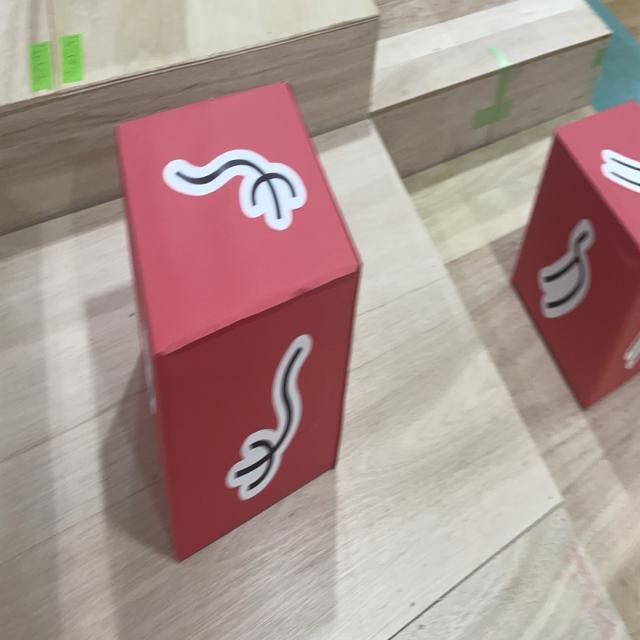10: (538, 218, 595, 321), (601, 147, 640, 194)
13: (225, 333, 312, 503), (163, 148, 308, 231)
fighter: (114, 80, 363, 564), (510, 96, 640, 412)
